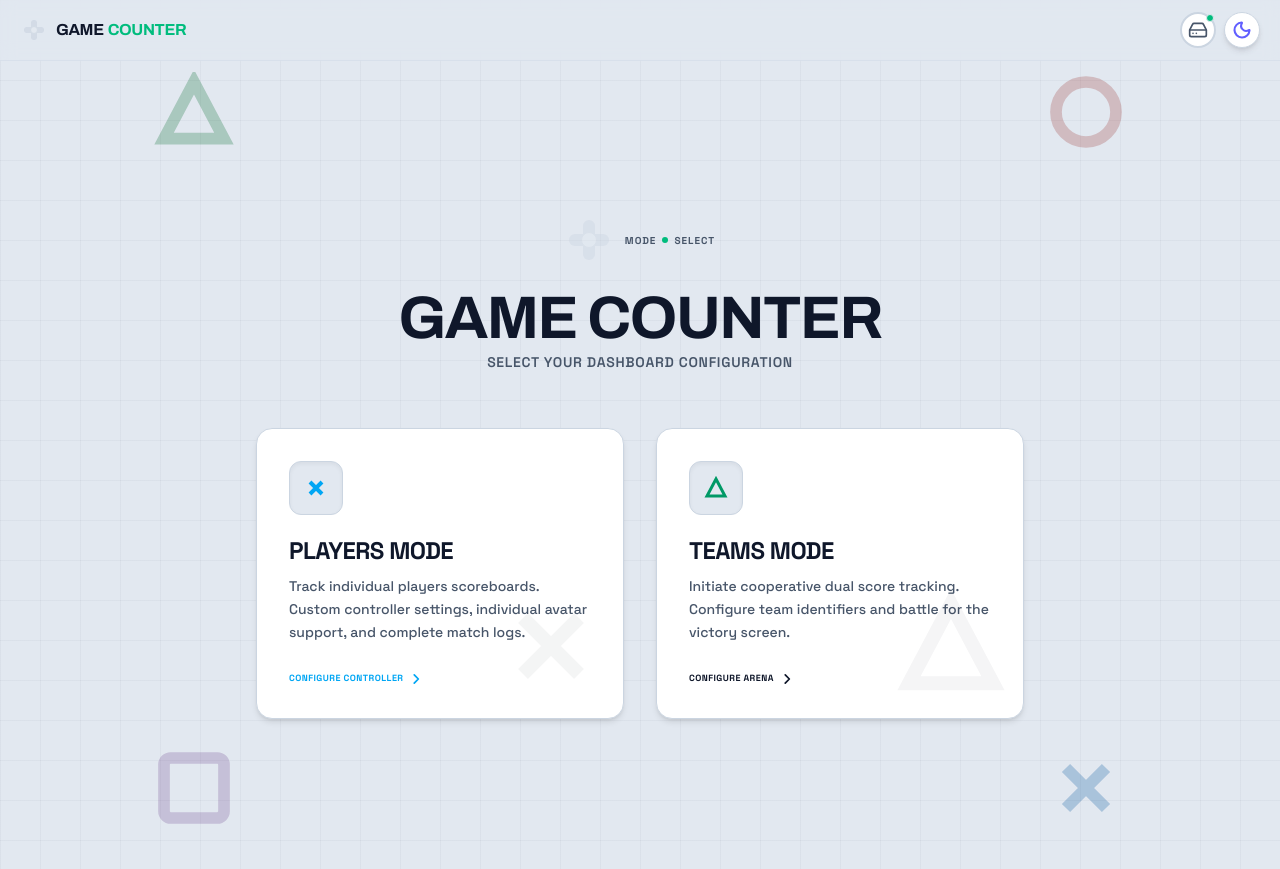
Scenario: Games Counter Integration Flow Tests › navigates from Home to Players Configuration, edits players, and loads Score Arena
Expected: the heading "GAME COUNTER" is shown, [398,288,882,348]
Expected: the heading "PLAYERS MODE" is shown, [289,535,453,566]
Click the link "PLAYERS MODE". click: point(440, 574)
box: [256,428,624,719]
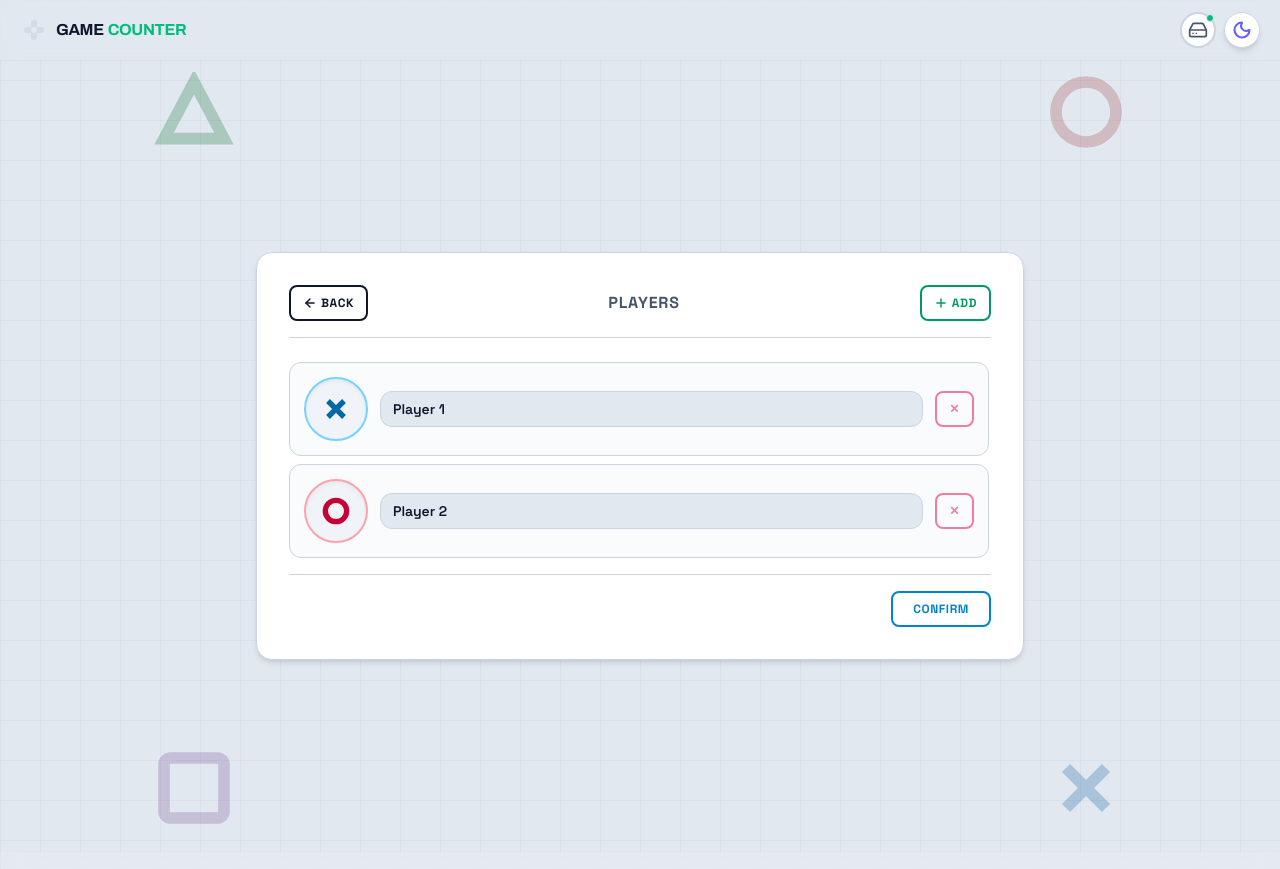
Expected: the number of fields with placeholder "Name" is 2
Expected: the 1st field with placeholder "Name" holds "Player 1"
Expected: the 2nd field with placeholder "Name" holds "Player 2", [380,493,923,529]
Replace the text in the 1st field with placeholder "Name" with "Challenger A". click: point(652, 409)
box: [380,391,923,427]
Click the button "Add". click: point(955, 303)
box: [920,285,991,321]
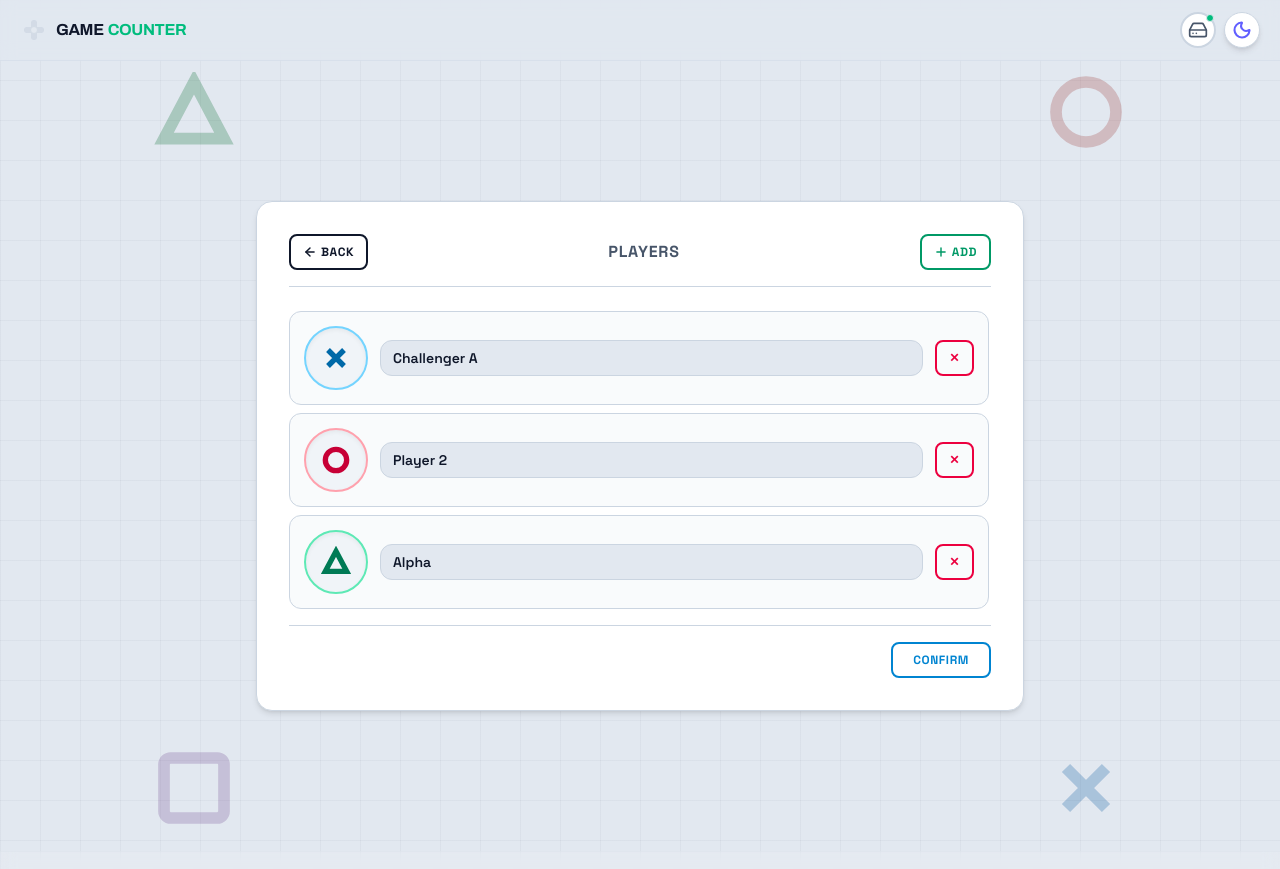
Expected: the link "Confirm" is shown
Expected: the number of fields with placeholder "Name" is 3, [380,340,923,376]; [380,442,923,478]; [380,544,923,580]
Expected: the 3rd field with placeholder "Name" holds "Alpha", [380,544,923,580]
Click the link "Confirm". click: point(941, 660)
box: [891,642,991,678]
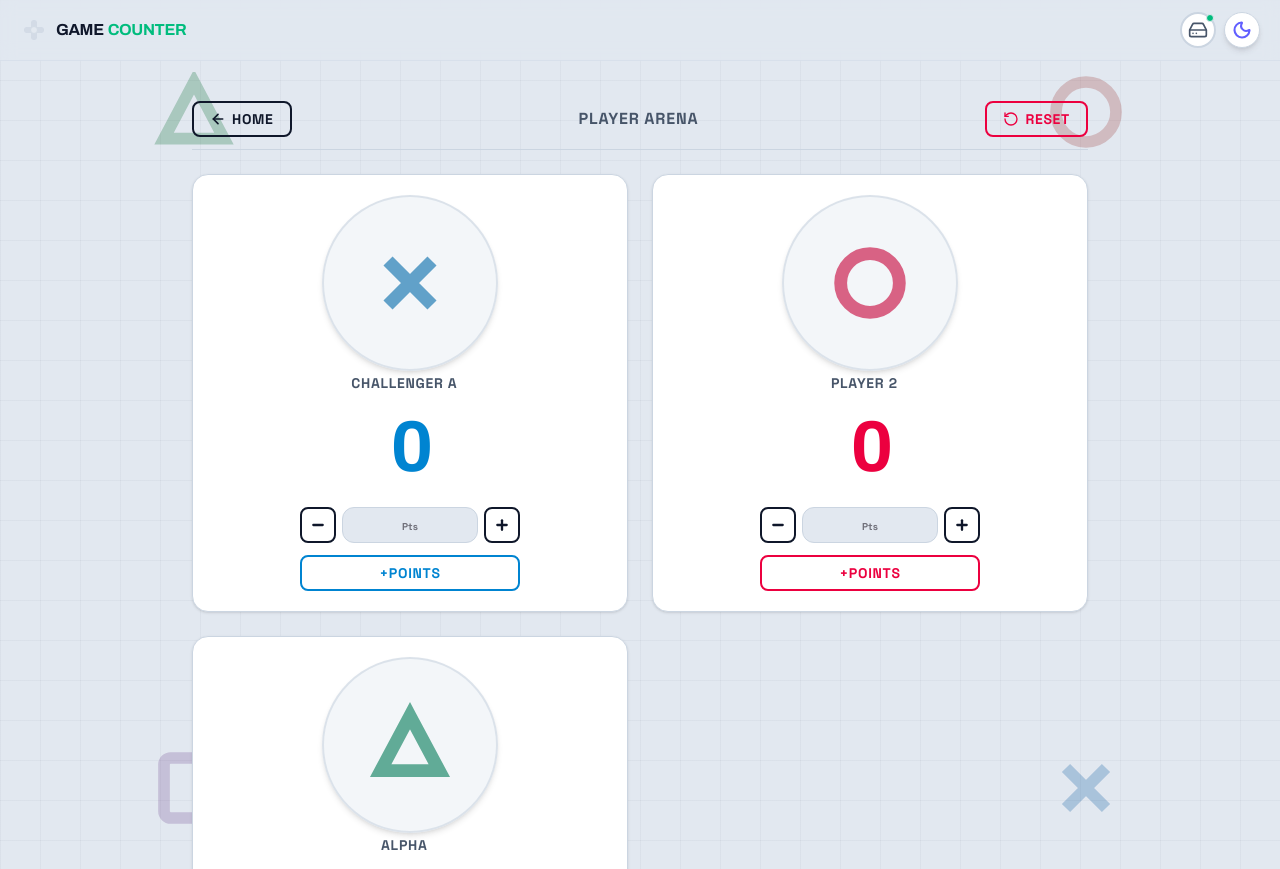
Expected: the heading "Player Arena" is shown, [579,107,698,131]
Expected: the heading "Challenger A" is shown, [351,374,457,392]
Expected: the heading "Player 2" is shown, [831,374,898,392]
Type "15" into the number field with placeholder "Pts" below "Challenger A". click: point(410, 525)
box: [342,507,478,543]
Click the button "+Points" below "Challenger A". click: point(410, 573)
box: [300,555,520,591]
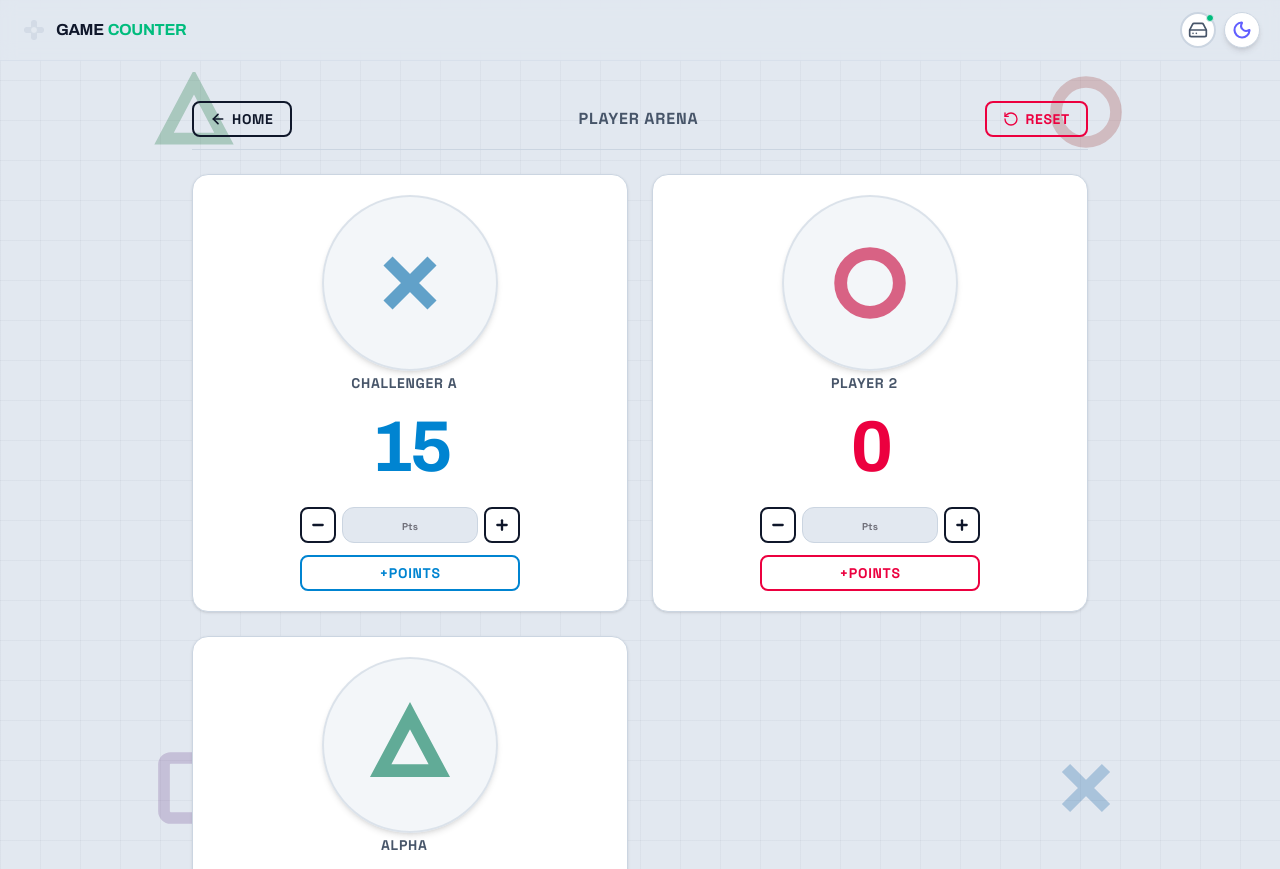
Expected: the text "15" is shown, [371,411,449,483]
Type "-5" into the 1st number field with placeholder "Pts". click: point(410, 525)
box: [342,507,478,543]
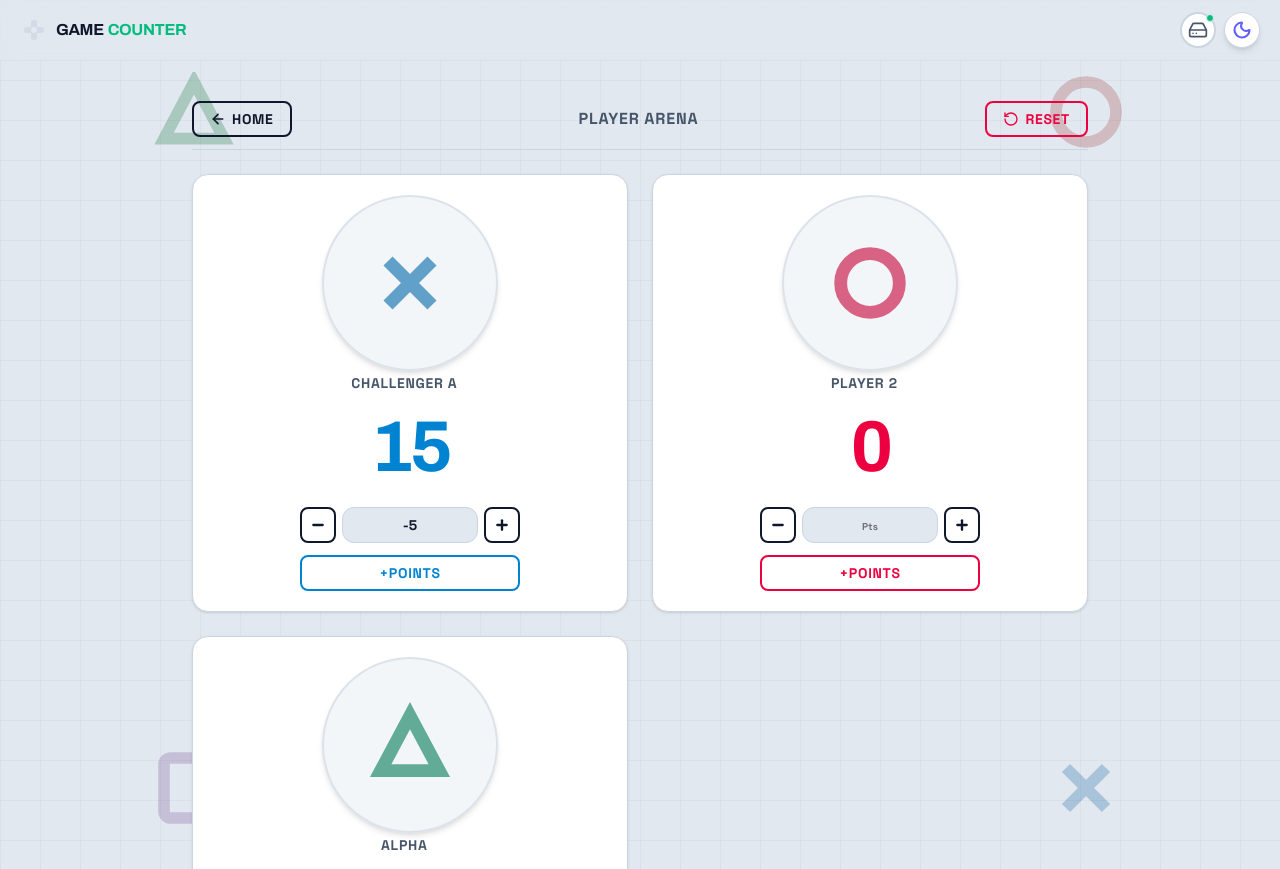
Click the 1st button "+Points". click: point(410, 573)
box: [300,555,520,591]
(page scrolled)
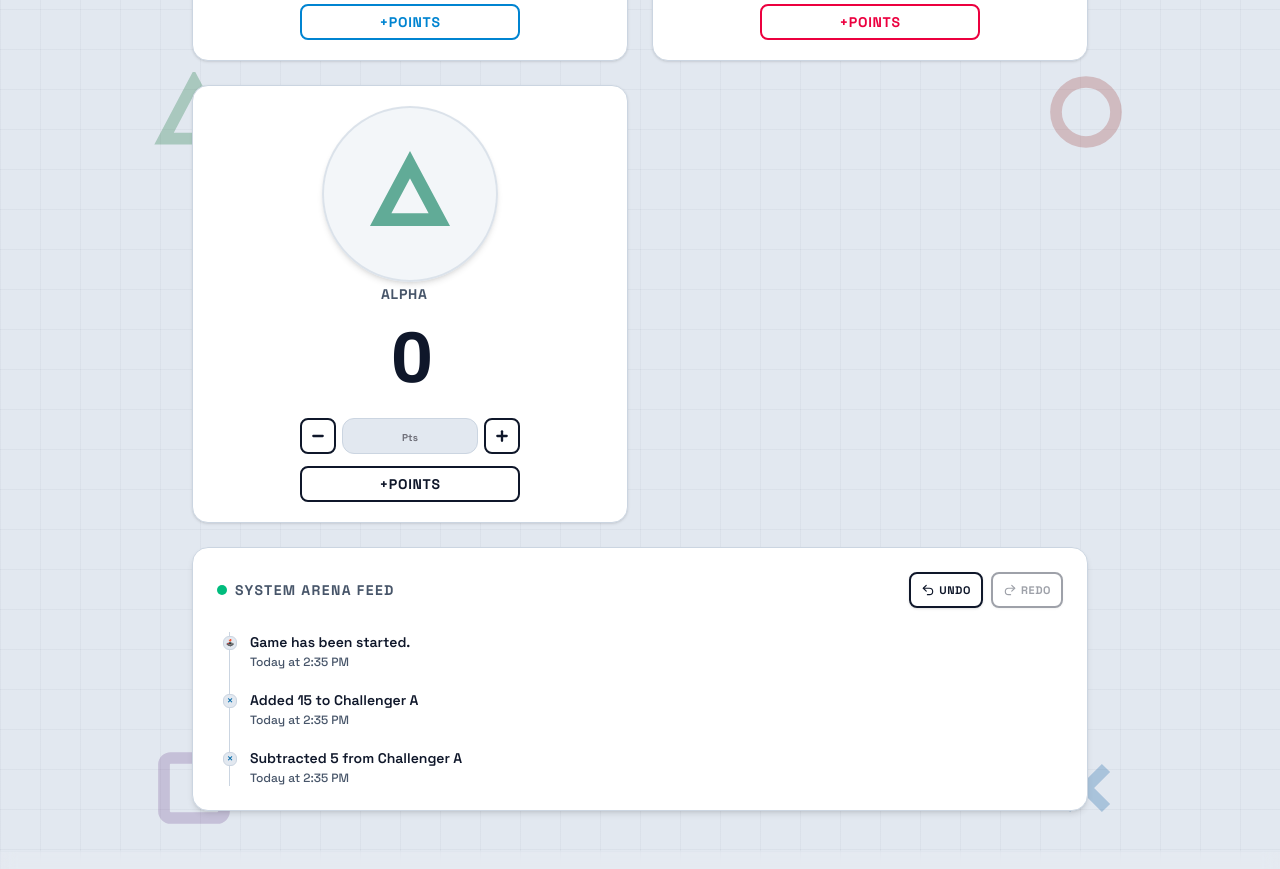
Expected: the text "Subtracted 5 from Challenger A" is shown, [250,749,462,767]
